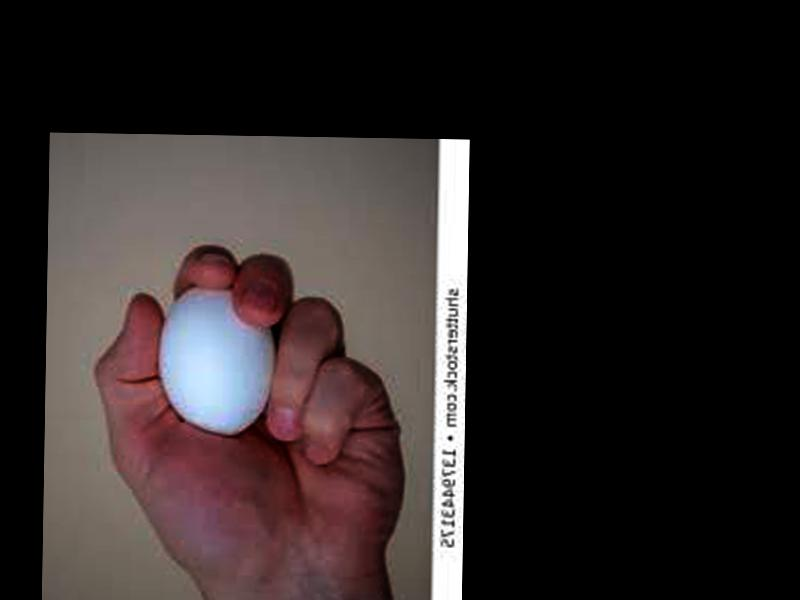Eggs: (157, 286, 275, 438)
